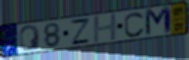8: (42, 22, 62, 48)
C: (123, 11, 146, 38)
H: (93, 12, 119, 45)
M: (144, 5, 174, 38)
Q: (18, 24, 42, 53)
Z: (69, 18, 92, 46)
